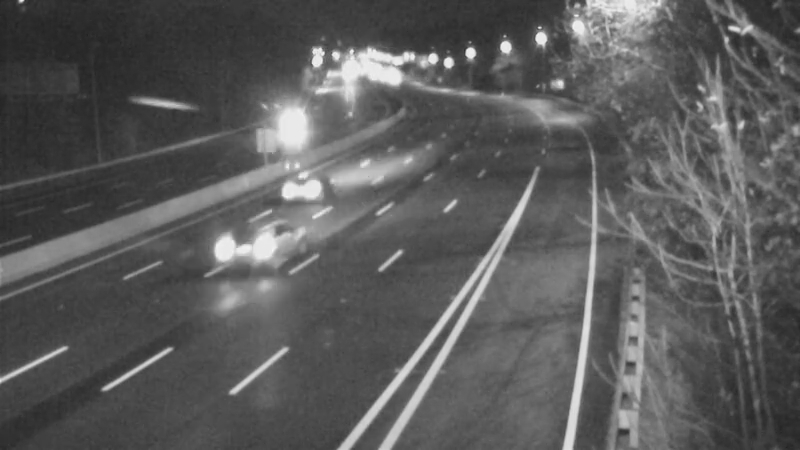vehicle: (261, 145, 341, 225), (199, 210, 279, 290), (369, 55, 419, 105), (279, 100, 329, 150)
